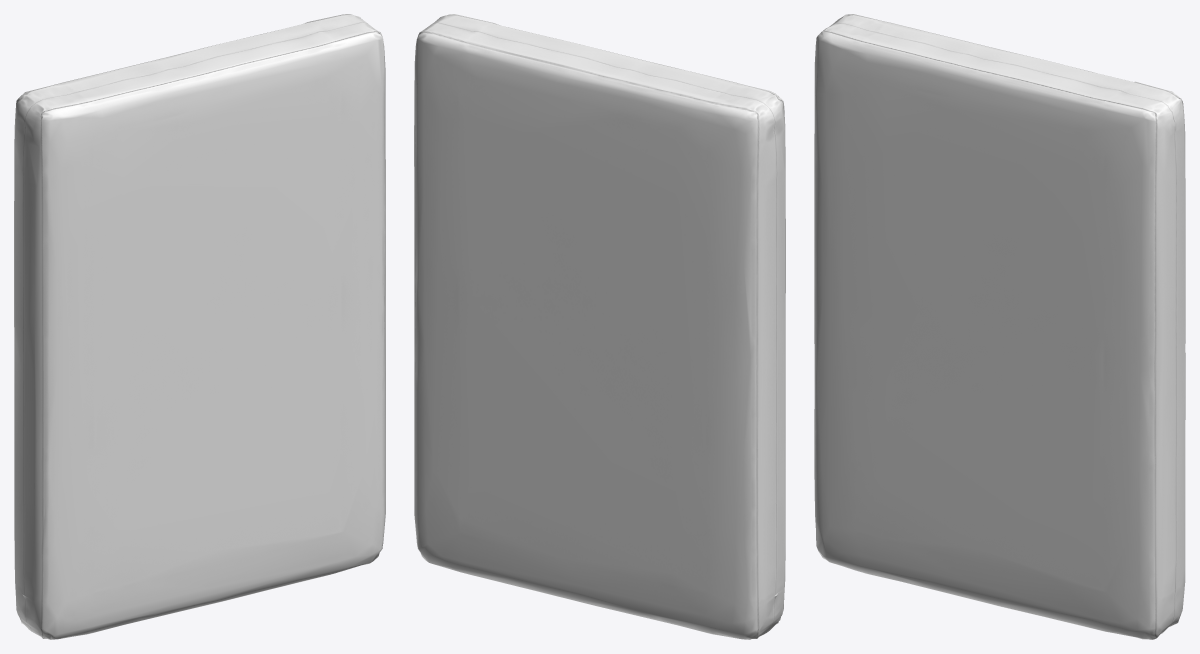
File: BedMattress_25_BedMattress_25_1.obj
3 views of the same model, side by side, from view 1: azimuth 30°, elevation 25°; view 2: azimuth 150°, elevation 25°; view 3: azimuth 330°, elevation 25° (orthographic).
Parts seen in each view (by area): view 1: BedMattress_25; view 2: BedMattress_25; view 3: BedMattress_25.
Part boxes in pixels (bbox=[...]): BedMattress_25: bbox=[14, 14, 385, 639]; BedMattress_25: bbox=[414, 14, 785, 639]; BedMattress_25: bbox=[814, 14, 1185, 639].
Size of the model in its own units: 1.37 by 1.99 by 0.2539.
